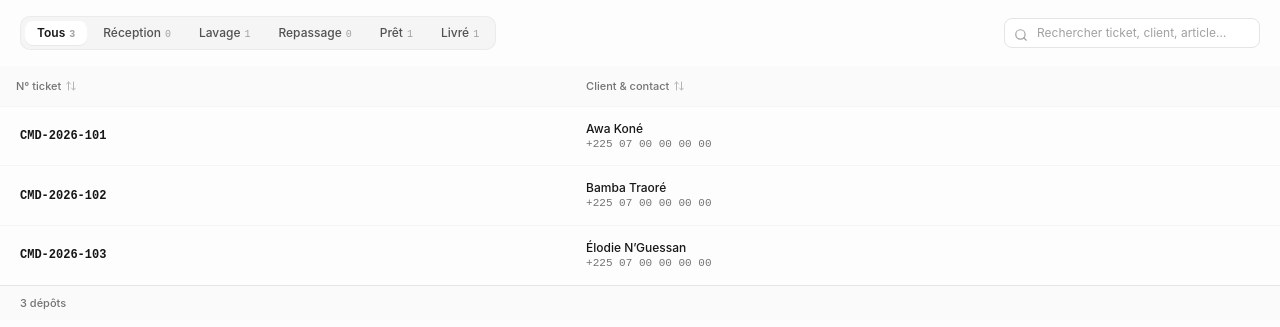
Scenario: OrdersTable — lecture du comptoir › filtre par étape d’atelier avec les compteurs du bandeau
The image size is (1280, 327).
Click the button "Lavage1".
click(225, 33)  # box [187,21,262,45]
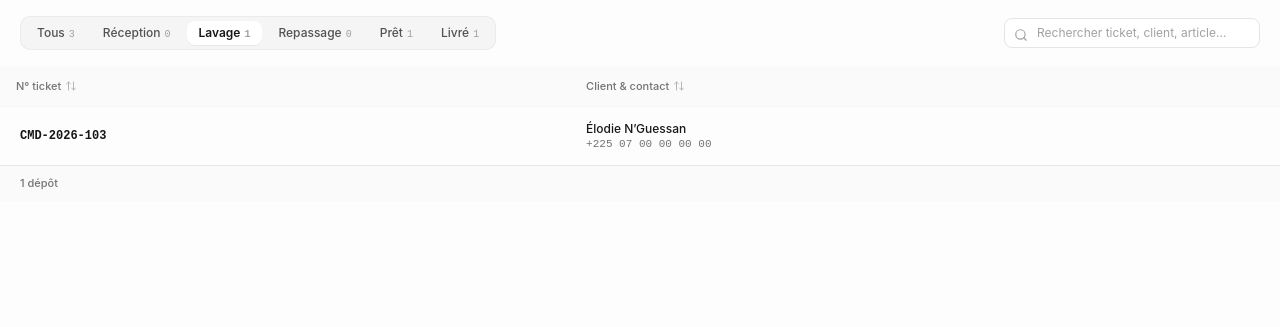
Check: the text "CMD-2026-103" is shown, box [0,106,570,166]
Check: the text "CMD-2026-101" is gone
